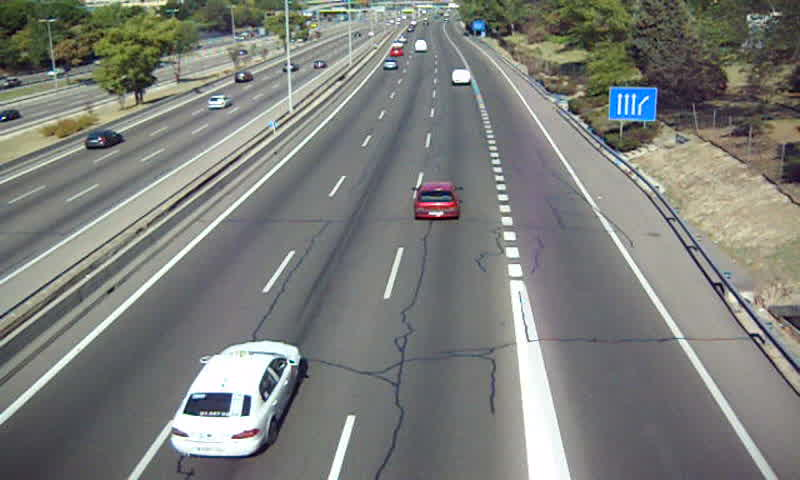car: (170, 340, 299, 458), (414, 182, 461, 220), (382, 59, 398, 71)
van: (451, 68, 473, 86)
